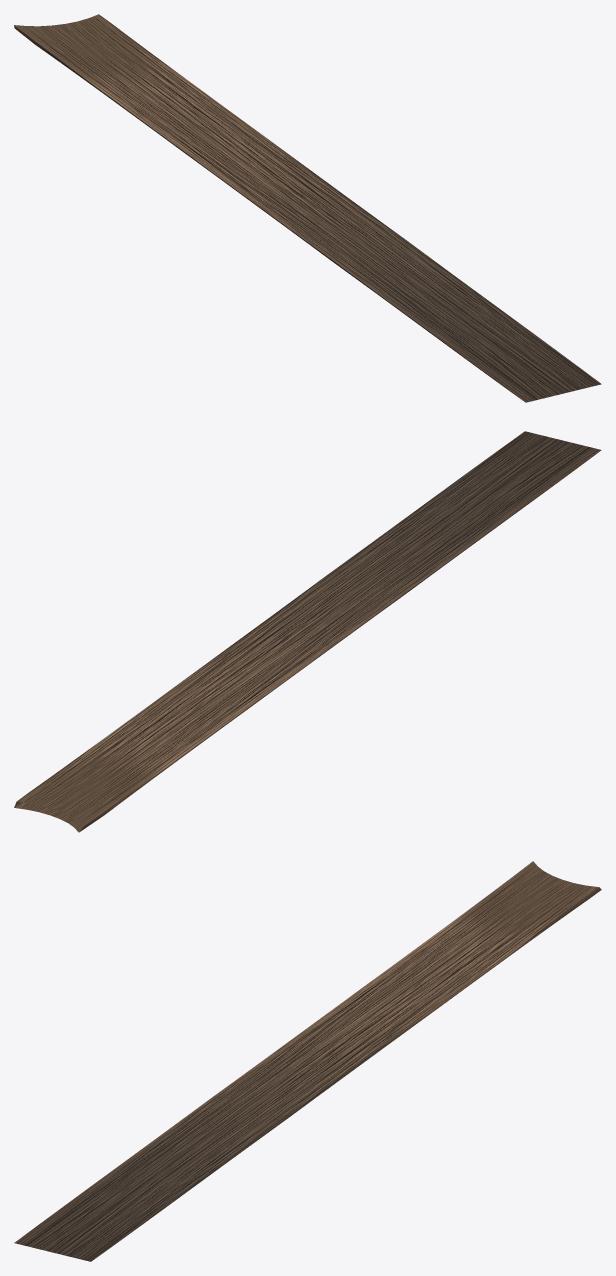
File: Hair_Strand_Part_1_8.fbx
The picture shows the model from 3 angles, top to bottom: view 1: azimuth 30°, elevation 25°; view 2: azimuth 150°, elevation 25°; view 3: azimuth 330°, elevation 25°; orthographic projection.
Visible parts, largest first — view 1: Hair_Strand_Part_1.002; view 2: Hair_Strand_Part_1.002; view 3: Hair_Strand_Part_1.002.
Part boxes in pixels (x1,y1,x2,y2): Hair_Strand_Part_1.002: (14, 14, 601, 402); Hair_Strand_Part_1.002: (14, 431, 601, 832); Hair_Strand_Part_1.002: (14, 861, 601, 1261).
Size of the model in its own units: 8.76 by 0.5644 by 102.
